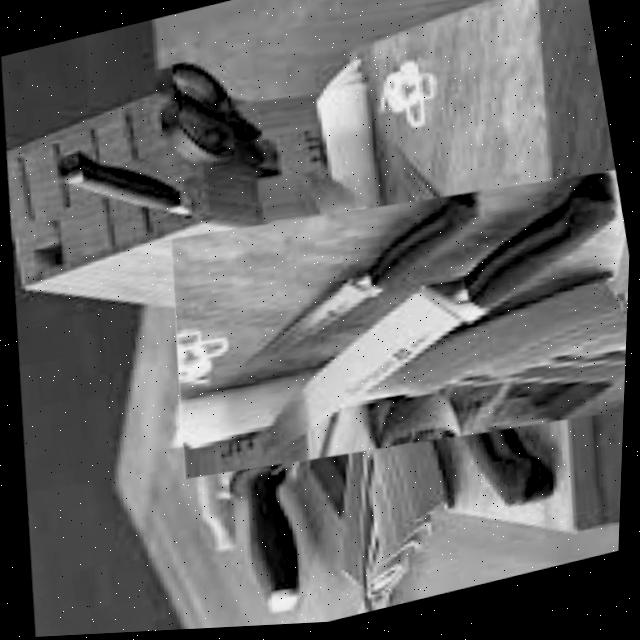knife: (228, 173, 634, 465), (380, 123, 575, 530), (228, 190, 504, 371), (52, 124, 200, 247)
